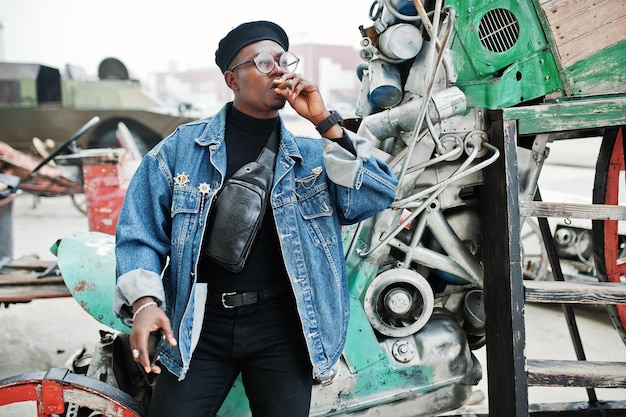cigarette: (275, 78, 293, 92)
